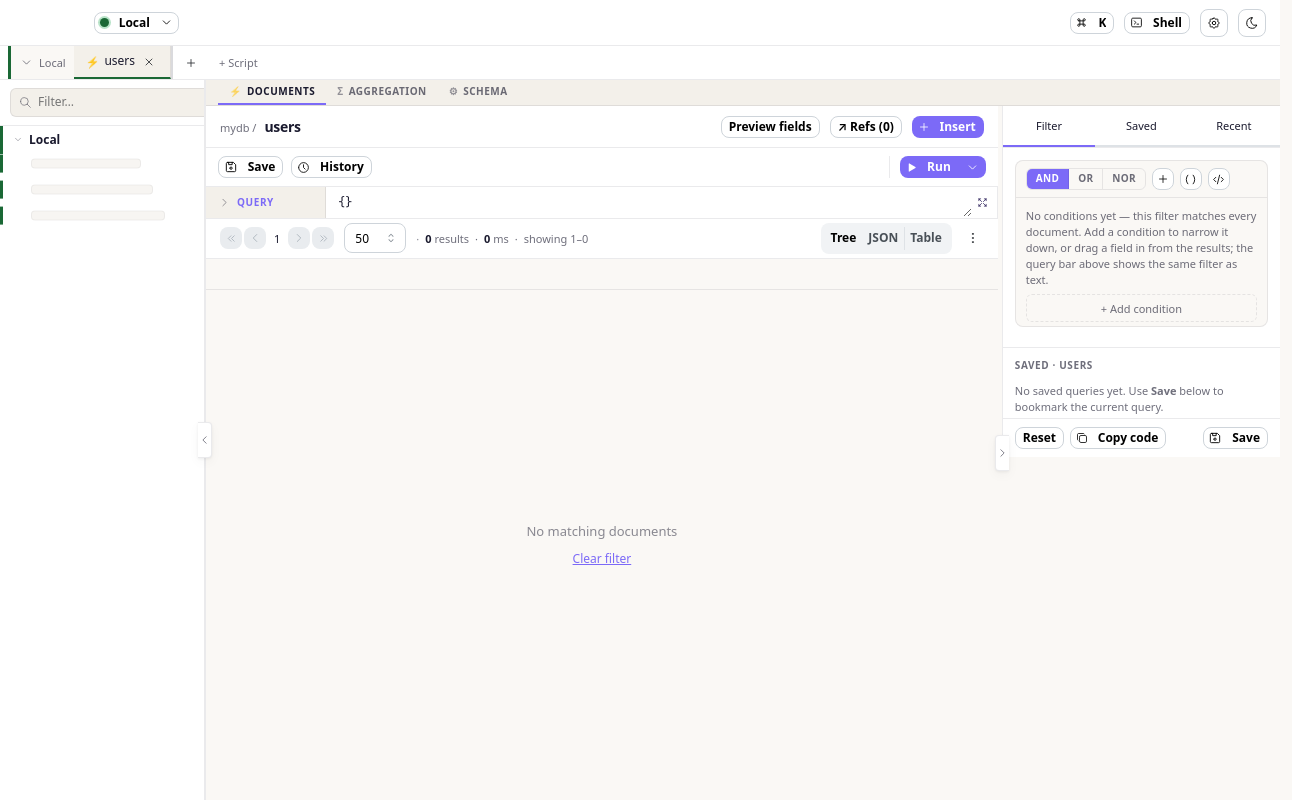
Query Builder — symbolic operators › resolves <= to $lte on blur
Click the button named "Add condition" at x=1163, y=179, box [1152,168,1174,190]
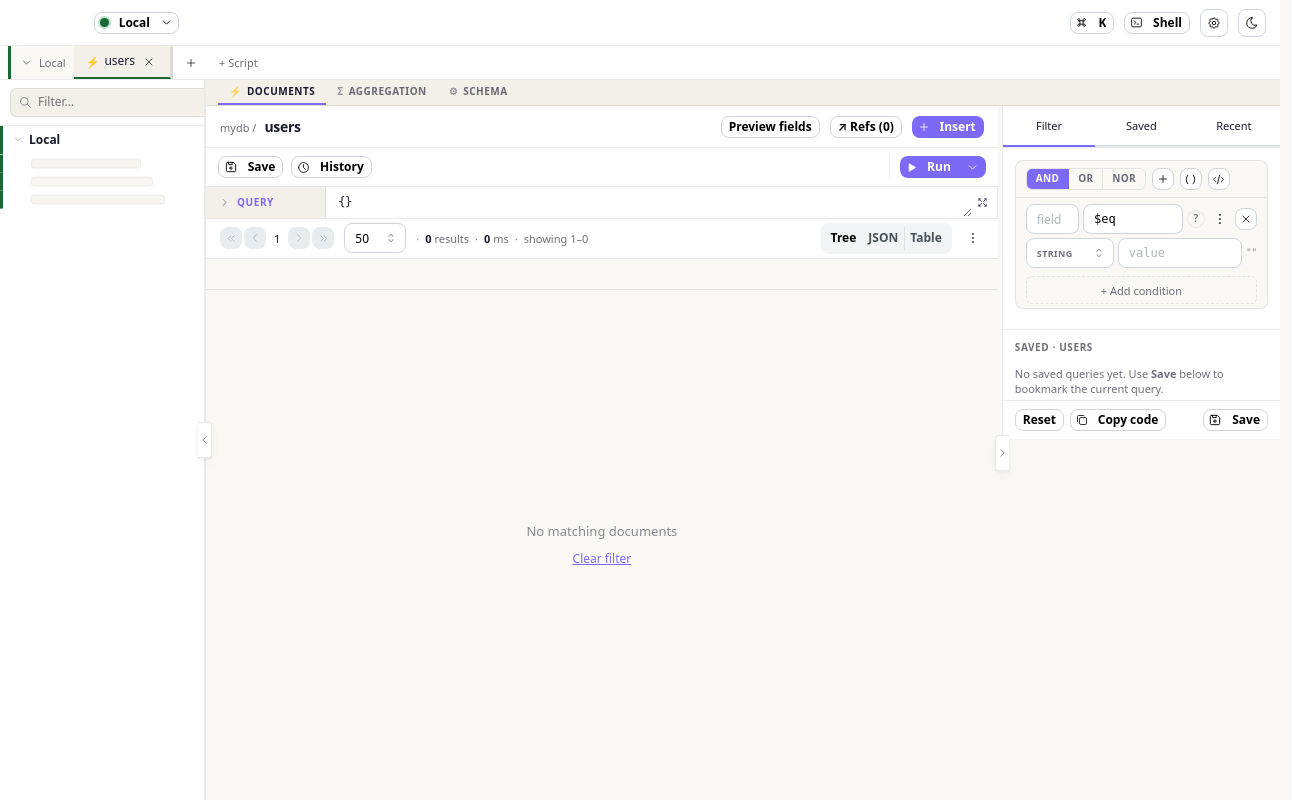
Expected: the field with placeholder "field" is shown, [1026,204,1079,234]
Replace the text in the field with placeholder "$op" with "<=" at x=1133, y=219, box [1083,204,1183,234]
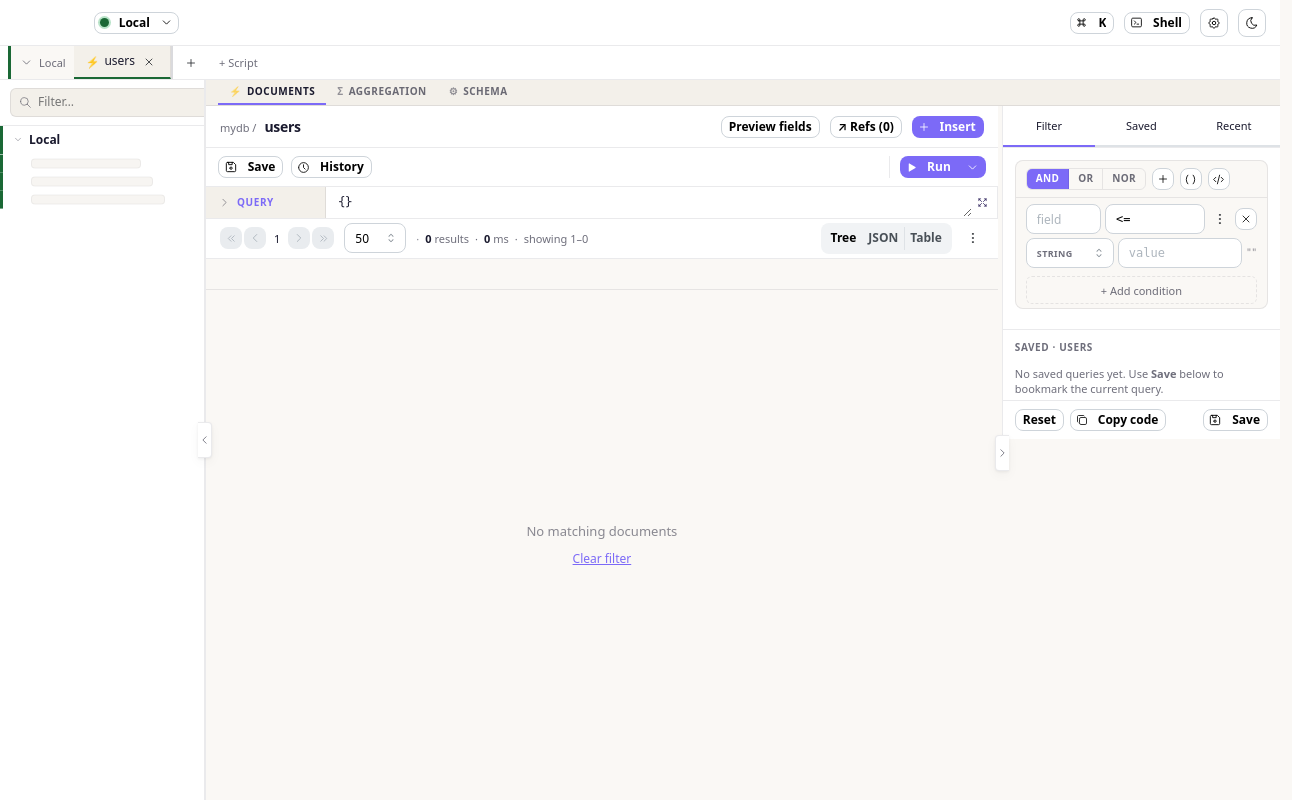
Leave the field with placeholder "$op", box [1105,204,1205,234]
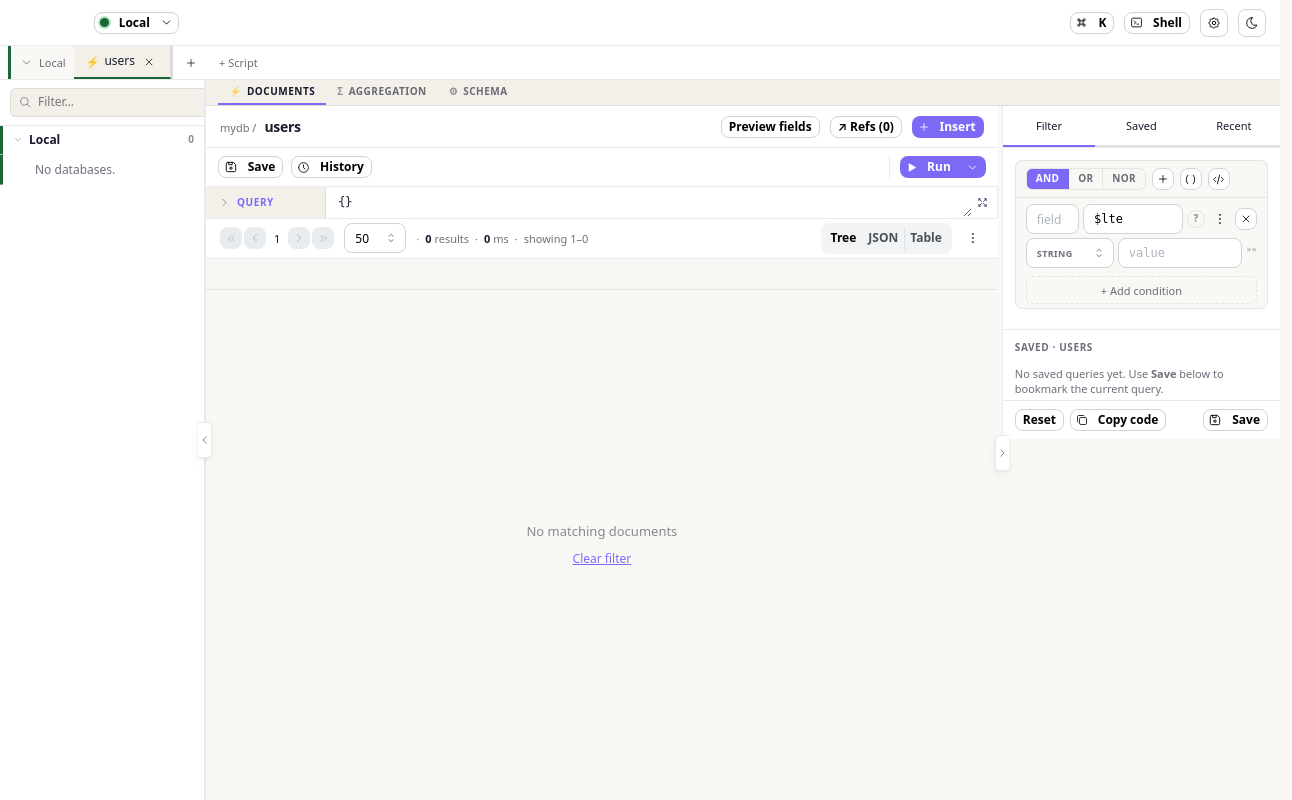
Expected: the field with placeholder "$op" holds "$lte", [1083,204,1183,234]
